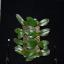leaf: (16, 14, 26, 26), (38, 17, 50, 26), (27, 17, 37, 27), (25, 30, 37, 38), (38, 28, 50, 36), (17, 44, 26, 54), (15, 47, 26, 55), (26, 54, 37, 62), (14, 28, 26, 35), (13, 38, 25, 45), (24, 42, 34, 50), (38, 42, 48, 50), (38, 50, 50, 56), (38, 40, 49, 46), (28, 39, 37, 46), (16, 28, 26, 34), (29, 32, 38, 38), (26, 50, 36, 55), (30, 53, 38, 59), (37, 42, 44, 48), (17, 34, 26, 38), (24, 21, 26, 25)
